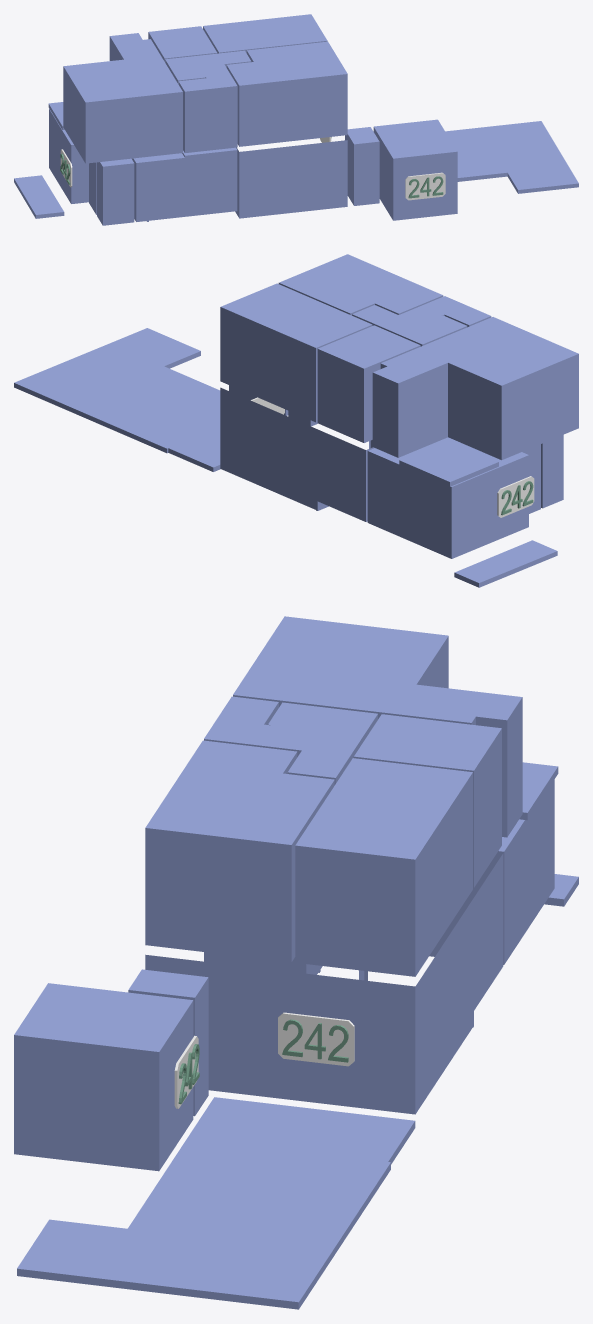
The picture shows the model from 3 angles, top to bottom: view 1: azimuth 30°, elevation 25°; view 2: azimuth 150°, elevation 25°; view 3: azimuth 270°, elevation 25°; orthographic projection. The views are drawn at different scales.
Visible parts, largest first — view 1: g_11, g_6, g_1, g_2, g_14, g_5, g_10, g_7, g_4, g_3, g_0, g_9 (+3 smaller); view 2: g_11, g_14, g_7, g_1, g_0, g_9, g_6, g_12, g_8, g_13, g_3, g_10 (+2 smaller); view 3: g_14, g_1, g_7, g_6, g_5, g_11, g_9, g_0, g_8, g_4, g_30, g_10 (+2 smaller).
Part boxes in pixels (x1=…): g_11: x1=63, y1=33, x2=182, y2=163; g_6: x1=226, y1=41, x2=347, y2=146; g_1: x1=235, y1=140, x2=347, y2=218; g_2: x1=89, y1=147, x2=237, y2=221; g_14: x1=445, y1=121, x2=578, y2=193; g_5: x1=373, y1=119, x2=457, y2=220; g_10: x1=178, y1=74, x2=237, y2=152; g_7: x1=203, y1=14, x2=327, y2=53; g_4: x1=345, y1=127, x2=379, y2=205; g_3: x1=97, y1=158, x2=134, y2=225; g_0: x1=49, y1=108, x2=88, y2=203; g_9: x1=148, y1=26, x2=217, y2=62; g_11: x1=372, y1=317, x2=578, y2=460; g_14: x1=14, y1=328, x2=220, y2=471; g_7: x1=220, y1=283, x2=372, y2=422; g_1: x1=220, y1=387, x2=374, y2=521; g_0: x1=367, y1=437, x2=528, y2=558; g_9: x1=317, y1=325, x2=420, y2=442; g_6: x1=278, y1=254, x2=443, y2=315; g_12: x1=399, y1=440, x2=498, y2=486; g_8: x1=352, y1=305, x2=467, y2=346; g_13: x1=454, y1=540, x2=557, y2=587; g_3: x1=541, y1=435, x2=563, y2=508; g_10: x1=420, y1=296, x2=491, y2=327; g_14: x1=17, y1=1097, x2=415, y2=1309; g_1: x1=145, y1=853, x2=503, y2=1114; g_7: x1=295, y1=758, x2=472, y2=976; g_6: x1=145, y1=740, x2=334, y2=962; g_5: x1=14, y1=983, x2=193, y2=1171; g_11: x1=233, y1=616, x2=522, y2=837; g_9: x1=353, y1=714, x2=501, y2=887; g_0: x1=429, y1=779, x2=554, y2=964; g_8: x1=258, y1=702, x2=377, y2=784; g_4: x1=128, y1=969, x2=208, y2=1116; g_30: x1=278, y1=1012, x2=354, y2=1066; g_10: x1=204, y1=696, x2=278, y2=746.
Bounding box in the file's own units: 19.43 × 5.35 × 10.42.
